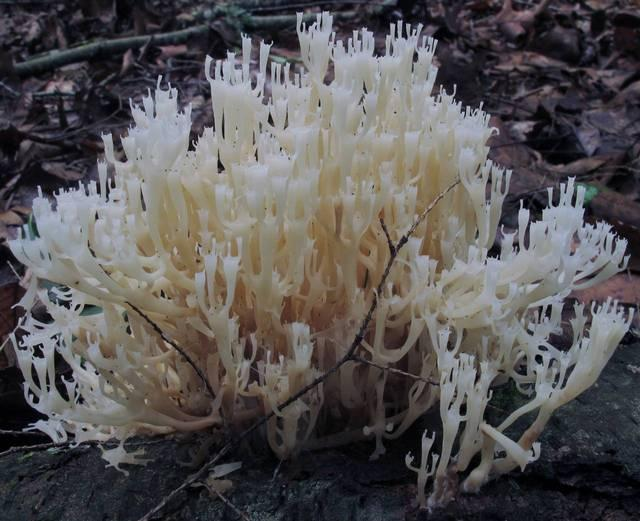Edible Mushroom: (4, 9, 637, 512)
